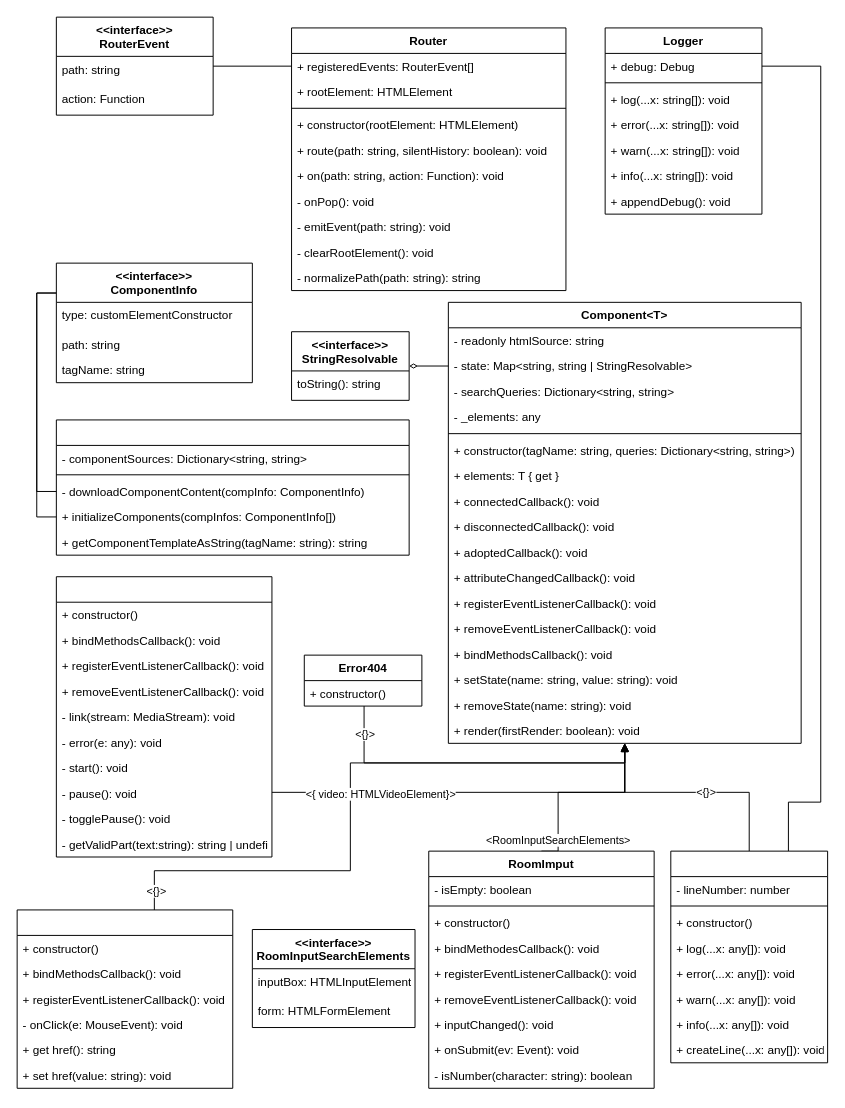
The diagram is 845 pixels wide and 1108 high, and some of its shapes have lost their labels. Each missing label, with the box of its shape:
ComponentLoader: (55, 419, 409, 555)
Debug: (670, 850, 828, 1063)
Link: (16, 909, 233, 1088)
OCR: (55, 576, 272, 857)
